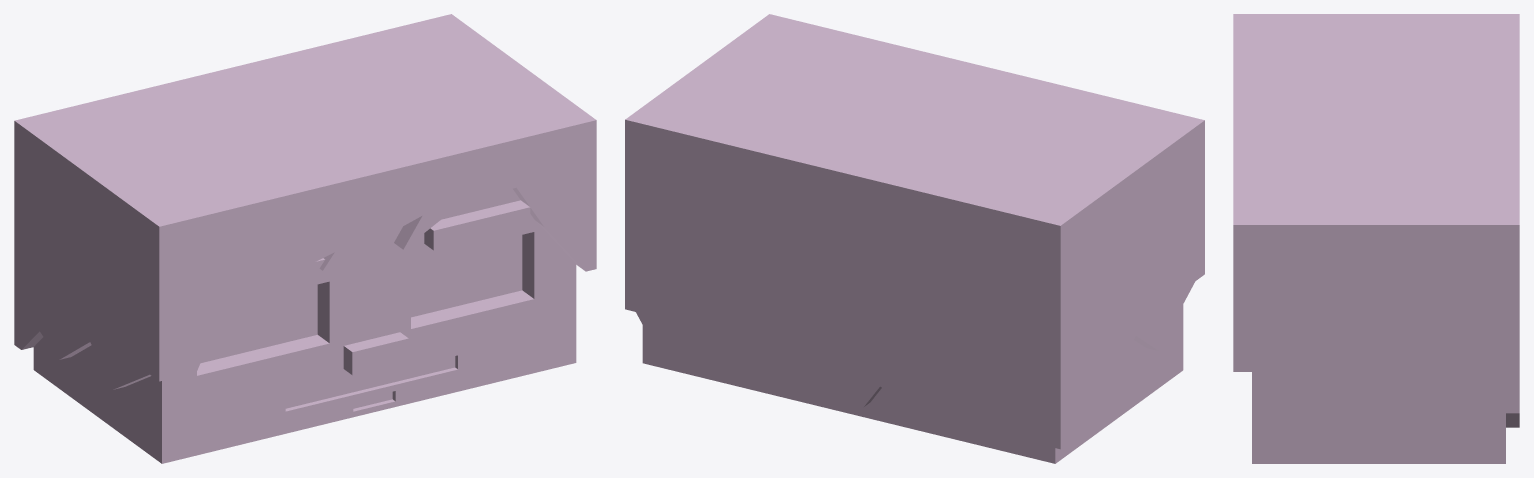
File: MaHead.fbx
3 views of the same model, side by side, from view 1: azimuth 30°, elevation 25°; view 2: azimuth 150°, elevation 25°; view 3: azimuth 270°, elevation 25° (orthographic).
Parts seen in each view (by area): view 1: Model; view 2: Model; view 3: Model.
Boxes of the visible parts, <box> form: Model: <box>14,14,596,463</box>; Model: <box>625,14,1204,463</box>; Model: <box>1233,14,1519,463</box>.
Size of the model in its own units: 6.13 by 3.31 by 3.52.
